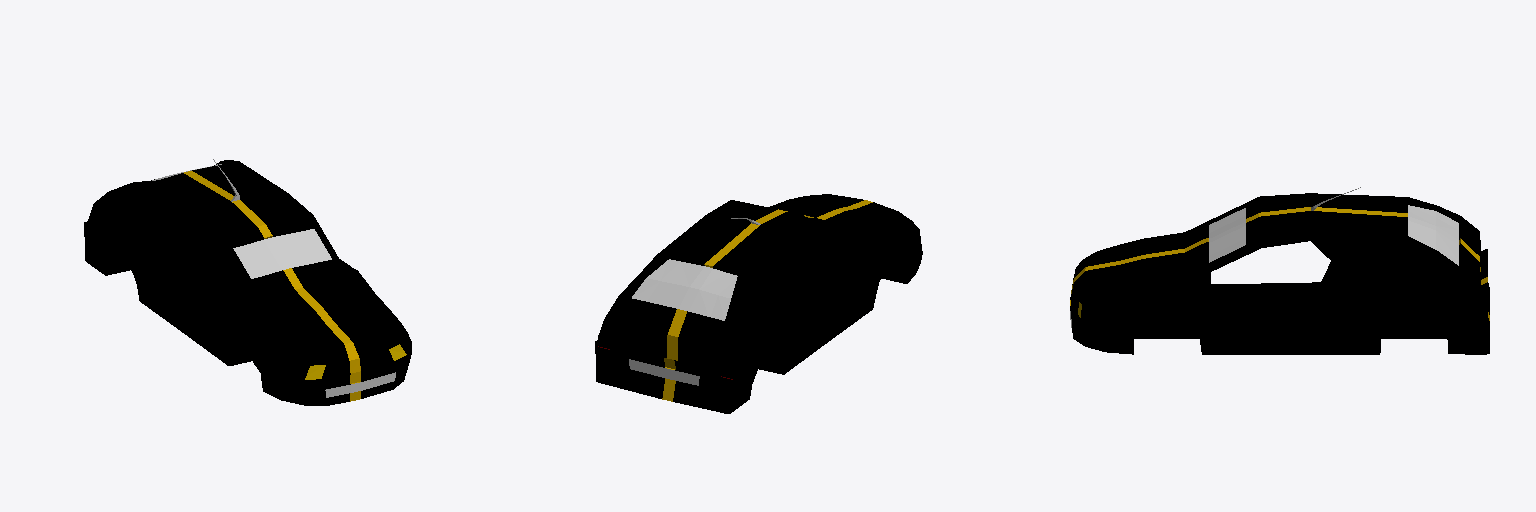
Rendered from Carroceria.obj.
3 renders of one model, left to right at view 1: azimuth 30°, elevation 25°; view 2: azimuth 150°, elevation 25°; view 3: azimuth 270°, elevation 25°, orthographic.
Visible parts, largest first — view 1: Carroceria; view 2: Carroceria; view 3: Carroceria.
Boxes of the visible parts, box(x1,y1,x2,y2) form: Carroceria: box(84, 159, 411, 405); Carroceria: box(595, 194, 922, 413); Carroceria: box(1070, 187, 1489, 354).
Size of the model in its own units: 1.13 by 0.9932 by 2.81.